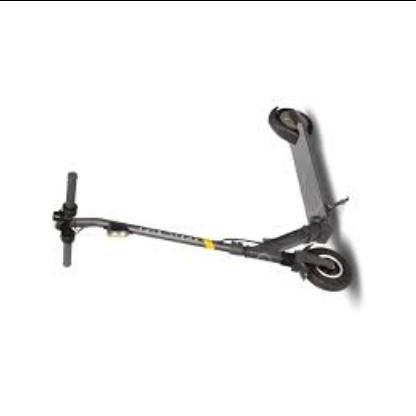bike: (50, 106, 360, 297)
